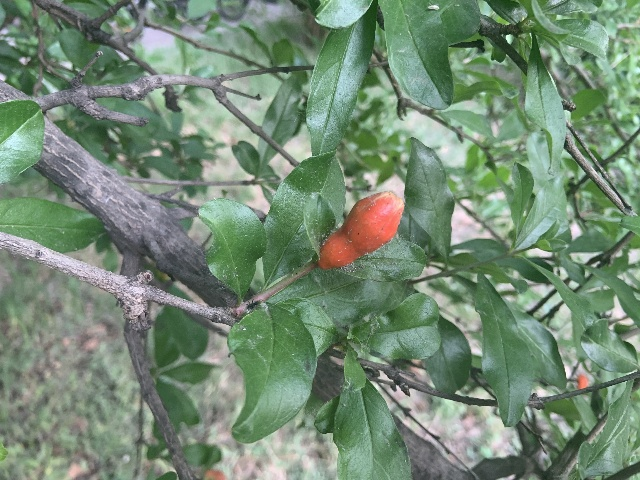bud: (319, 192, 403, 269)
